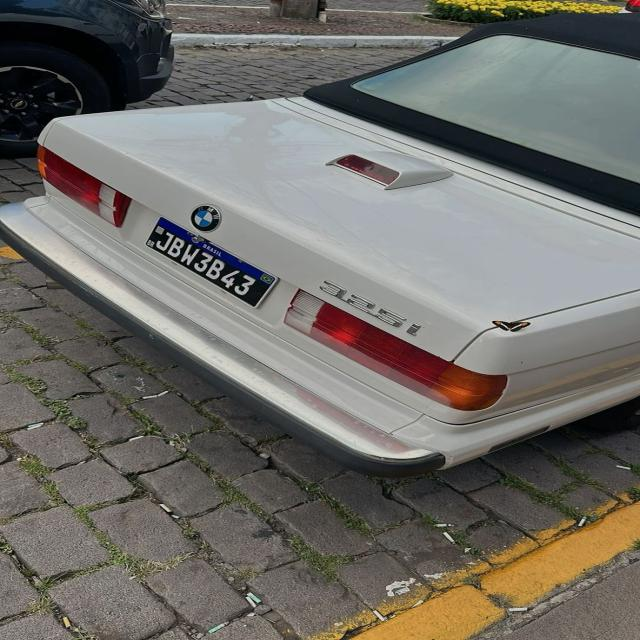Placas: (137, 215, 285, 315)
